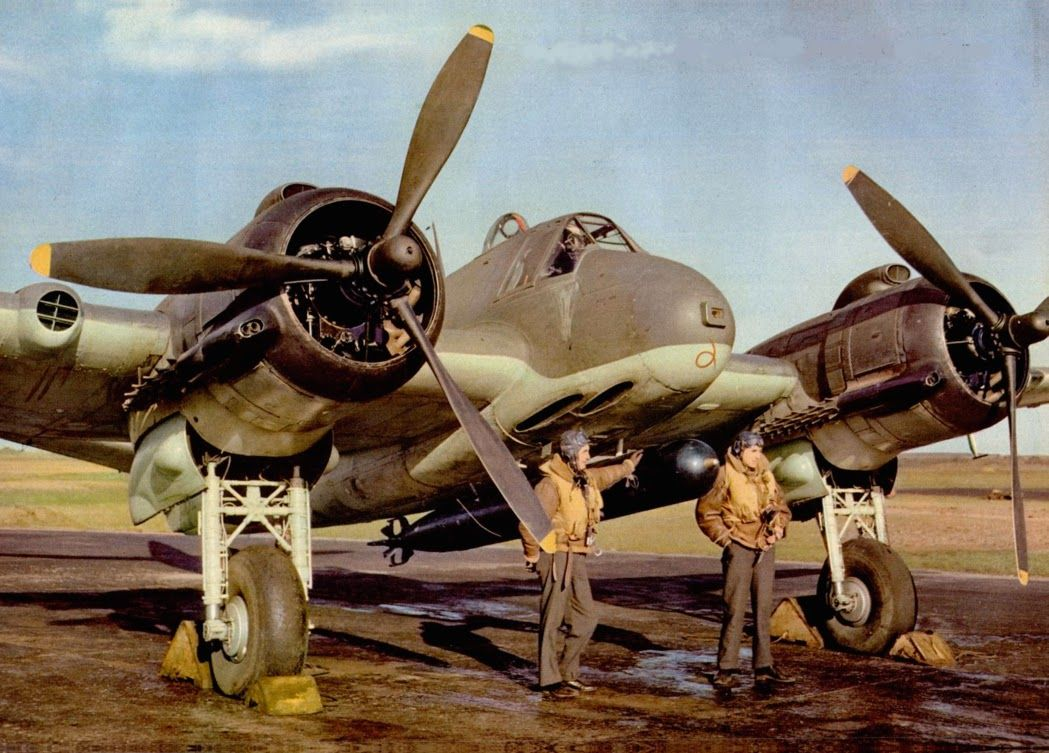Aeronef_militaire: (1, 19, 1049, 709)
